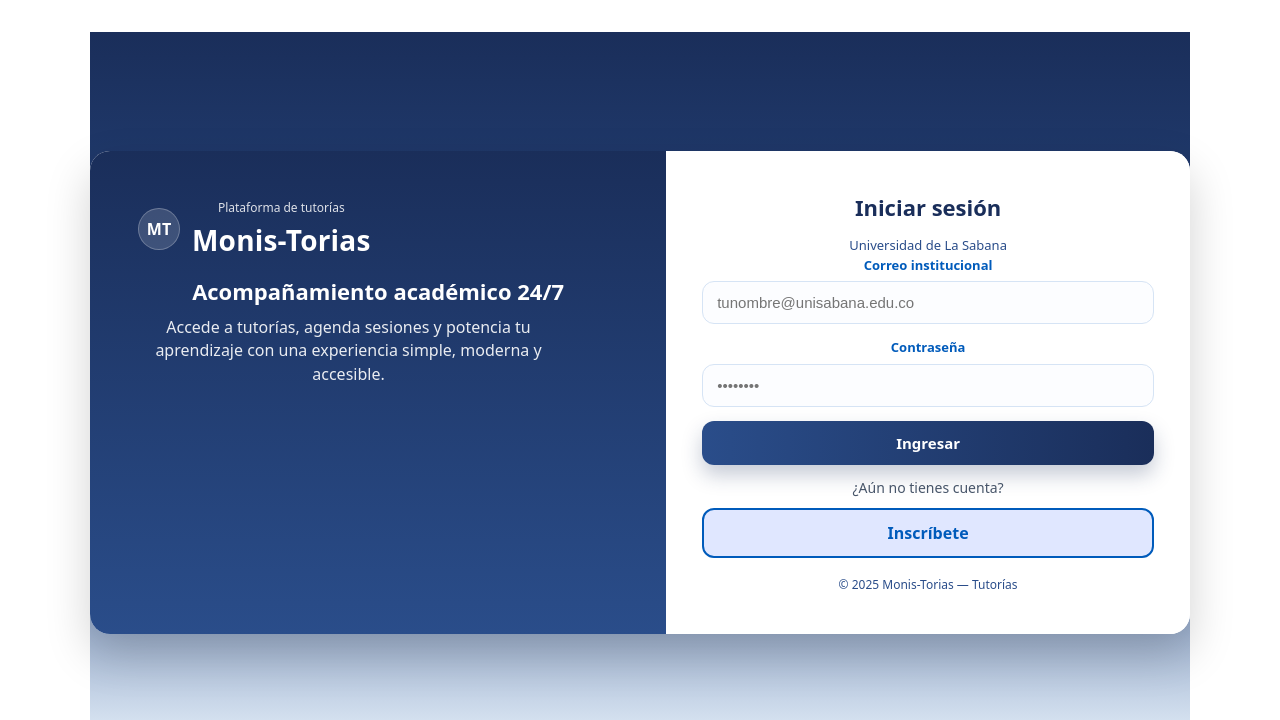
Scenario: Login Component › should show registration form when clicking "Inscríbete"
Click the button "Inscríbete". click: coordinates (928, 532)
box: [702, 508, 1154, 558]
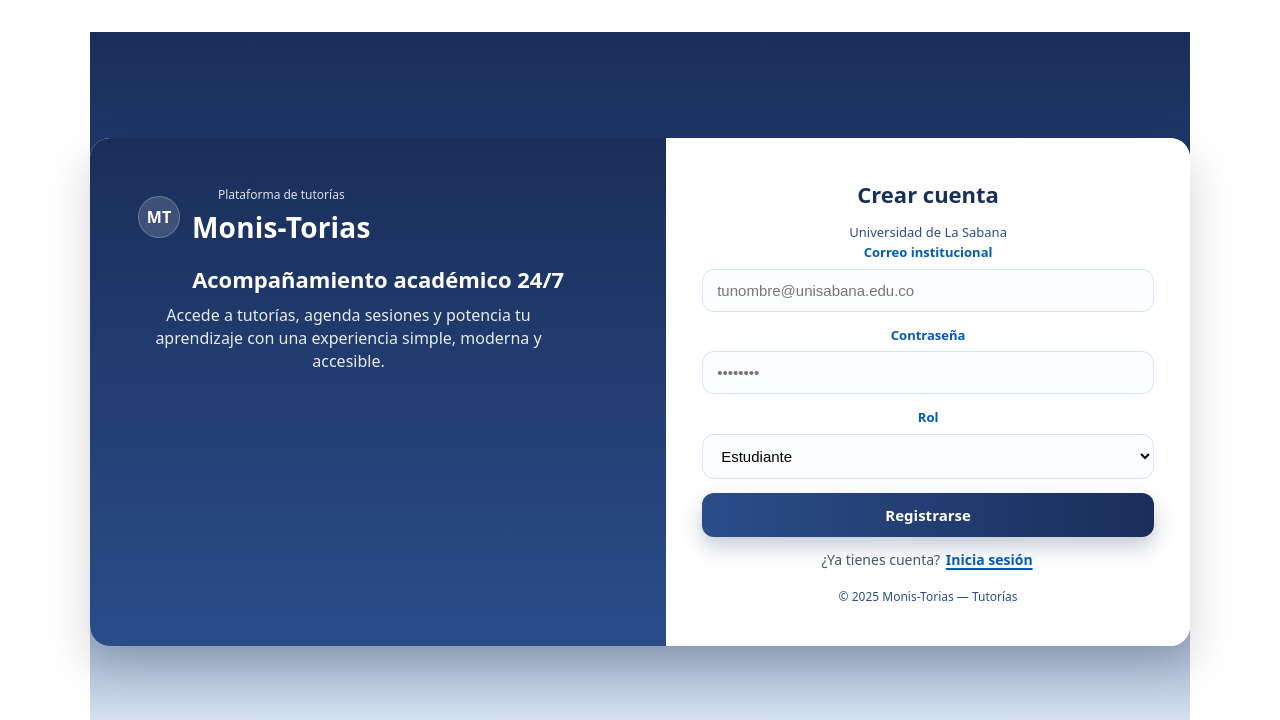
Now the text "Crear cuenta" is shown, box [857, 179, 999, 209]
Now the dropdown is shown, box [702, 434, 1154, 479]
